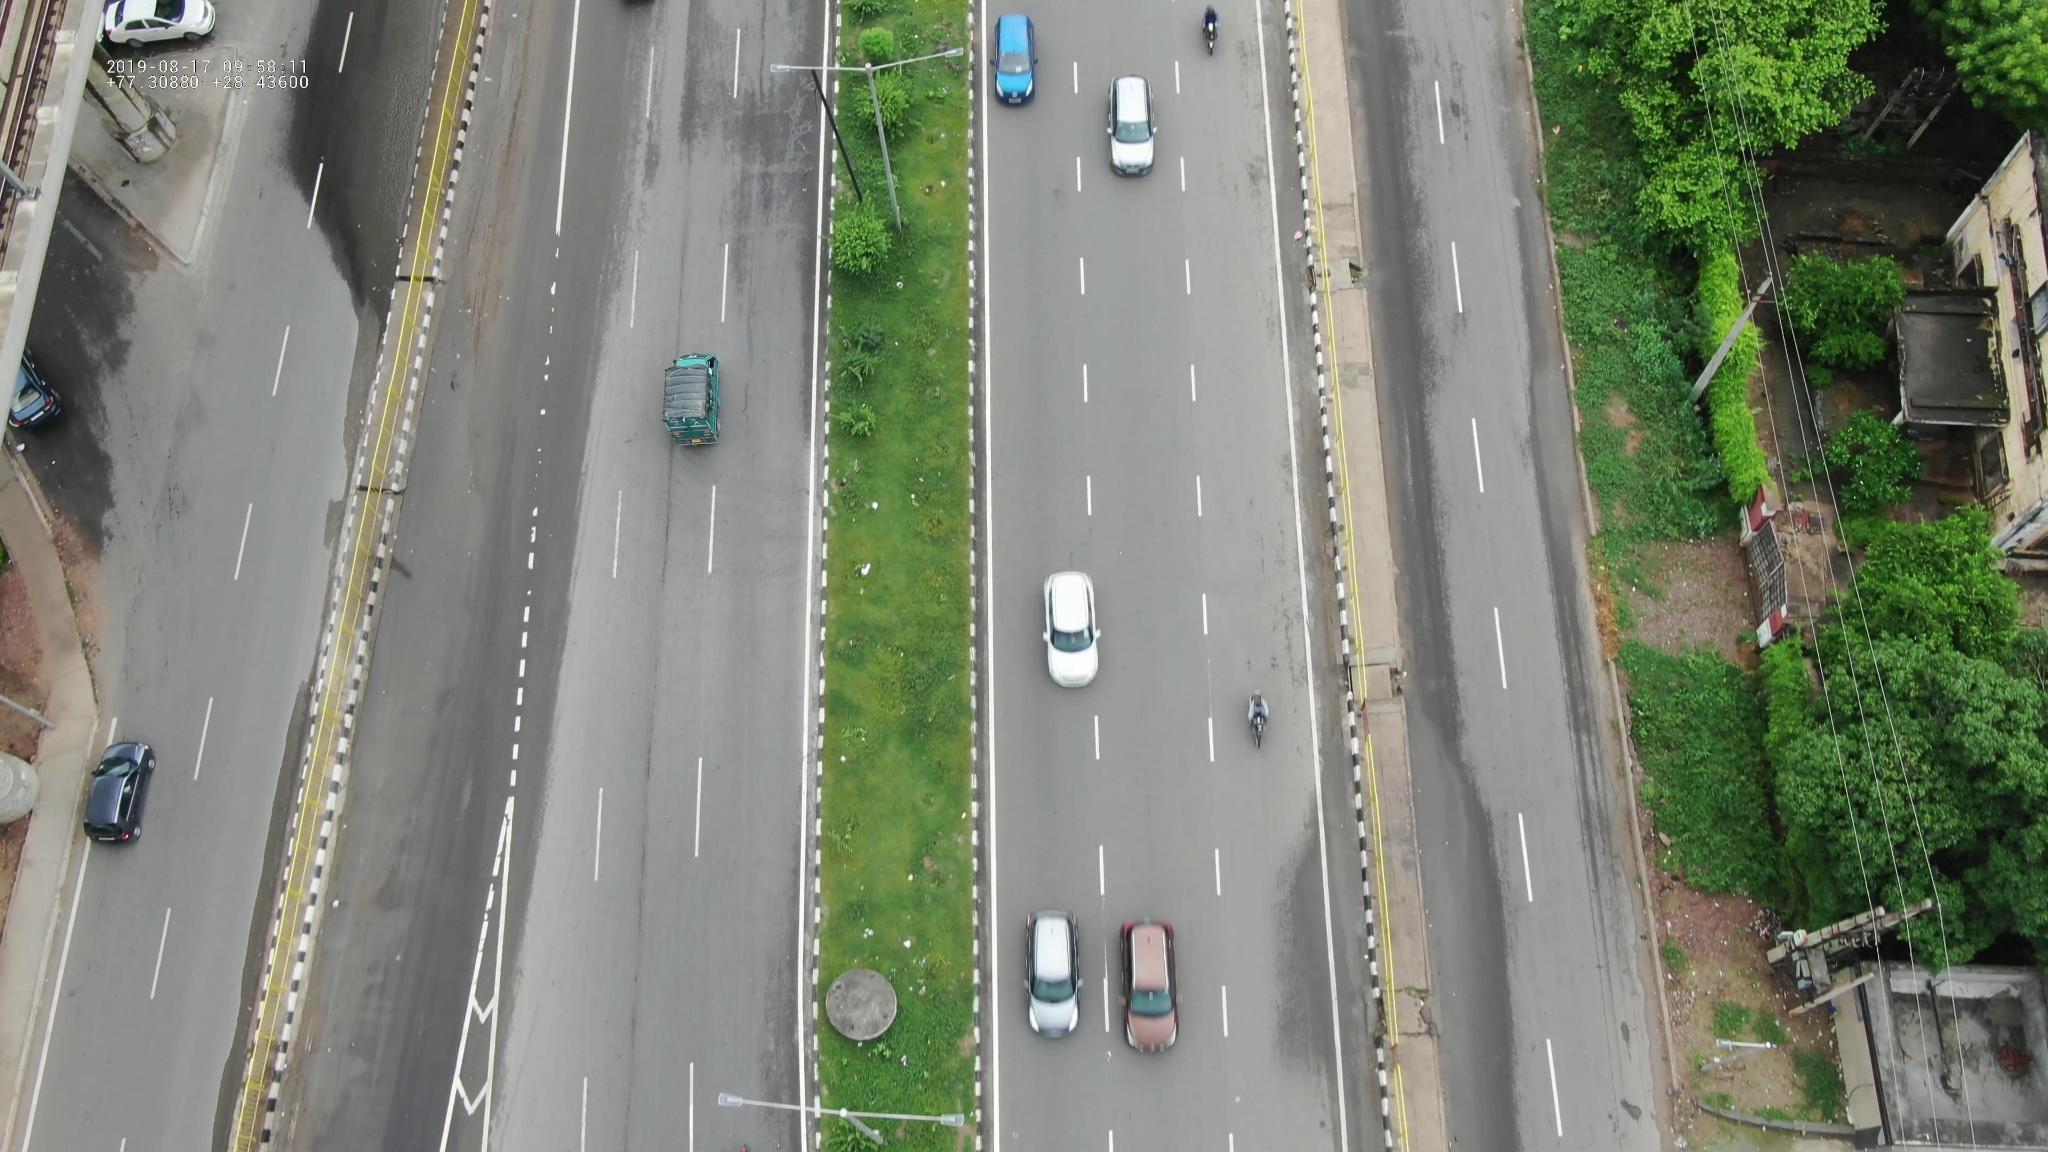Waterlogging: (326, 1, 440, 280), (1509, 340, 1581, 537)
